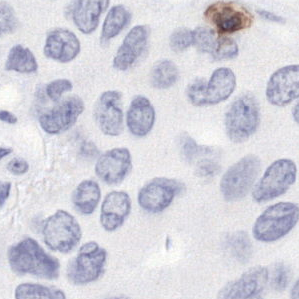Lymphocyte: (207, 5, 255, 30)
